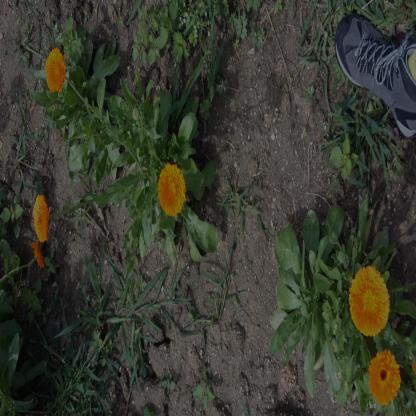marigold: (349, 268, 389, 337), (369, 352, 400, 405), (159, 163, 185, 215), (46, 48, 66, 93), (34, 196, 48, 242)
